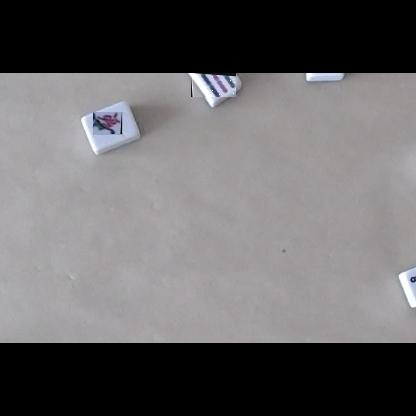1s: (94, 113, 127, 139)
9s: (191, 73, 236, 97)
